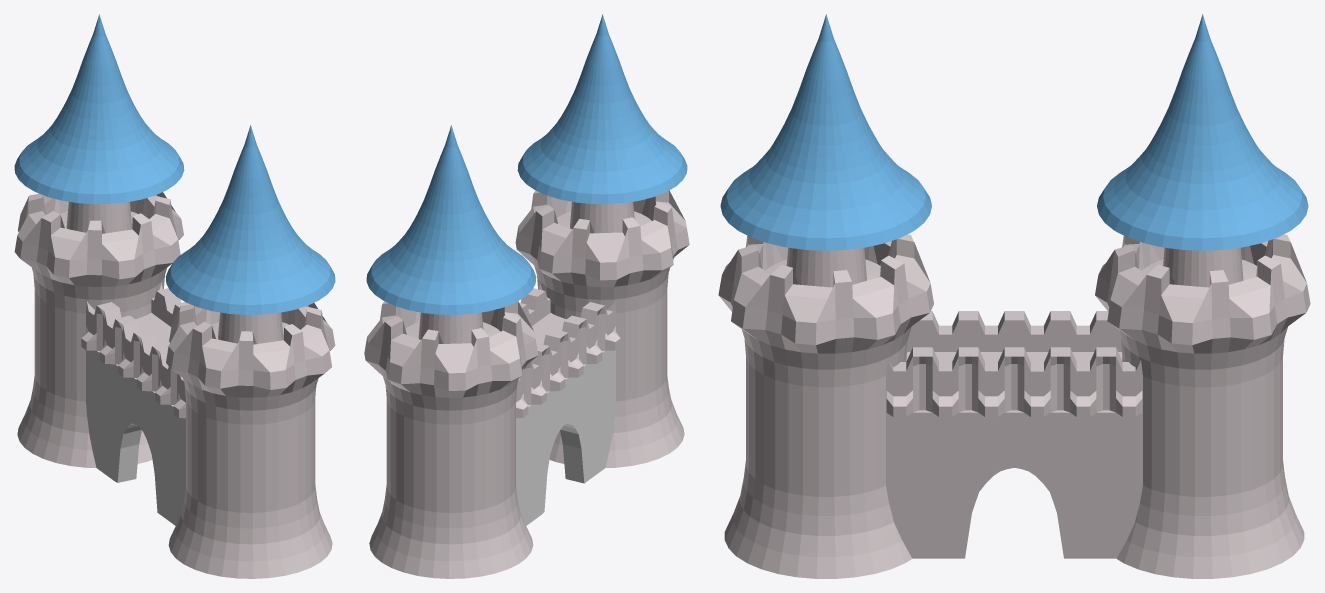
The model's file is catsle.glb.
3 renders of one model, left to right at view 1: azimuth 30°, elevation 25°; view 2: azimuth 150°, elevation 25°; view 3: azimuth 270°, elevation 25°, orthographic. The views are drawn at different scales.
Visible parts, largest first — view 1: Cylinder.003, Cylinder.004, Cylinder.002, Cylinder.001, Cube, Cube.002; view 2: Cylinder.004, Cylinder.003, Cylinder.001, Cylinder.002, Cube, Cube.002; view 3: Cylinder.003, Cylinder.004, Cube.001, Cylinder.002, Cylinder.001, Cube.002.
Part boxes in pixels (x1,y1,x2,y2): Cylinder.003: (166,303,335,578); Cylinder.004: (14,192,183,467); Cylinder.002: (165,125,335,314); Cylinder.001: (14,14,184,204); Cube: (86,350,185,525); Cube.002: (81,283,194,418); Cylinder.004: (364,301,538,578); Cylinder.003: (515,190,689,467); Cylinder.001: (366,125,536,314); Cylinder.002: (517,14,687,204); Cube: (516,350,615,525); Cube.002: (516,283,620,418); Cylinder.003: (718,234,933,578); Cylinder.004: (1095,234,1310,578); Cube.001: (886,410,1142,558); Cylinder.002: (720,14,931,250); Cylinder.001: (1097,14,1308,250); Cube.002: (886,311,1142,416).
Bounding box in the file's own units: 16.04 × 42.84 × 44.04.
